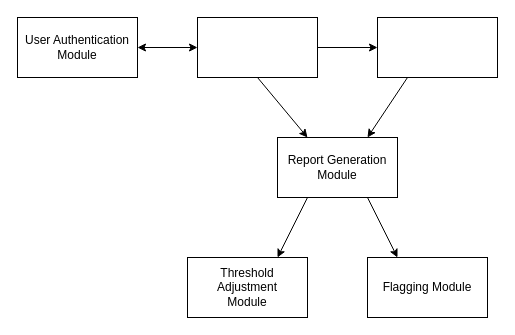
Image size: 515x335. Some labels were removed from this diagram. The shapes that lost their labels are listed below. From the top down, each one's box as (x1, y1, x2, y2) in pixels, then its label:
(196, 16, 318, 78): Code Upload Module
(376, 16, 498, 78): Results Upload Module
